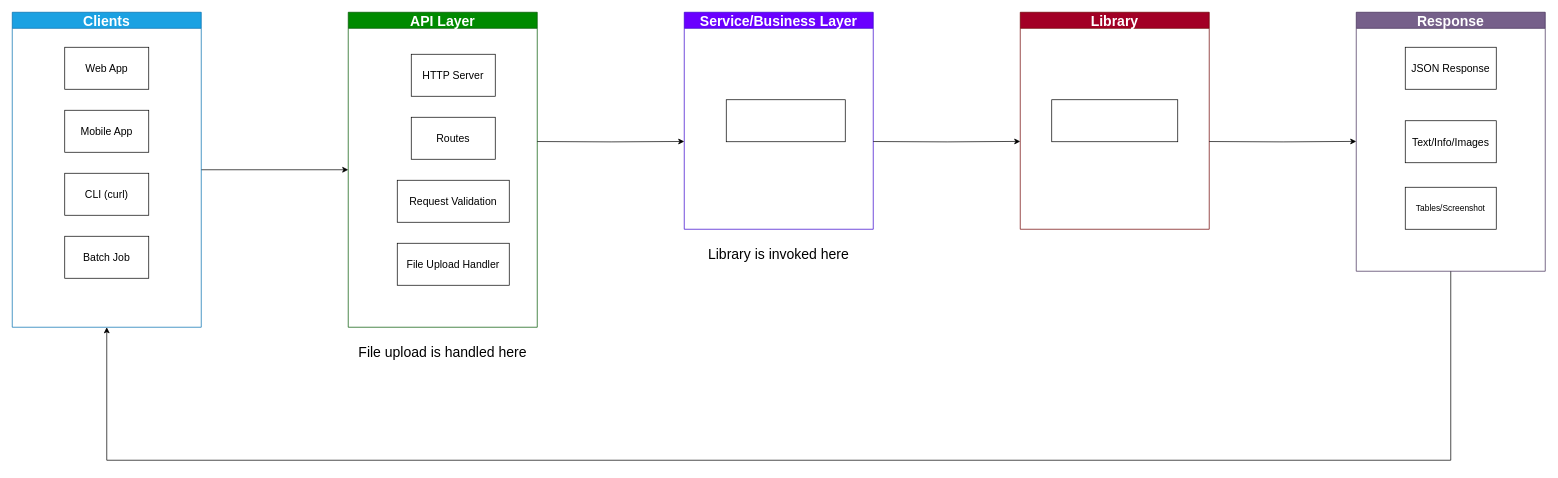
The diagram is 1558 pixels wide and 478 high, and some of its shapes have lost their labels. Here are the shapes that lost their labels. From the top down, the centre of each, then its label:
At point 785,120: "PDF Parsing Service".
At point 1114,120: "pdf-parse (via redesigned interface)".
